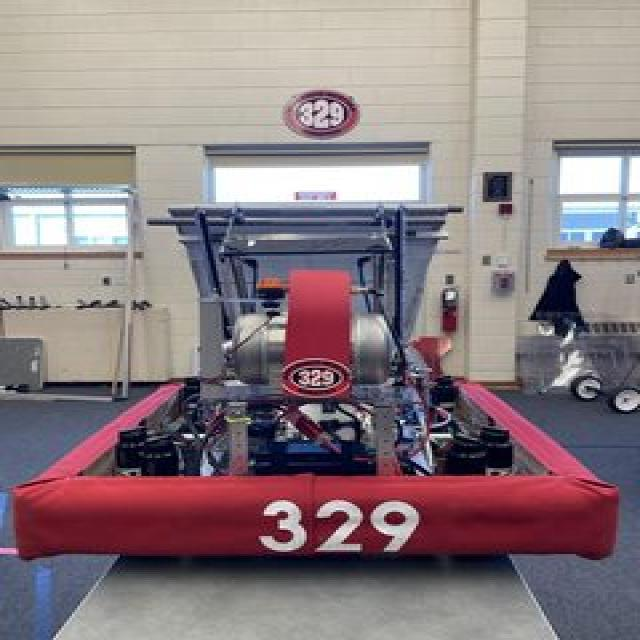robot: (0, 163, 633, 607)
